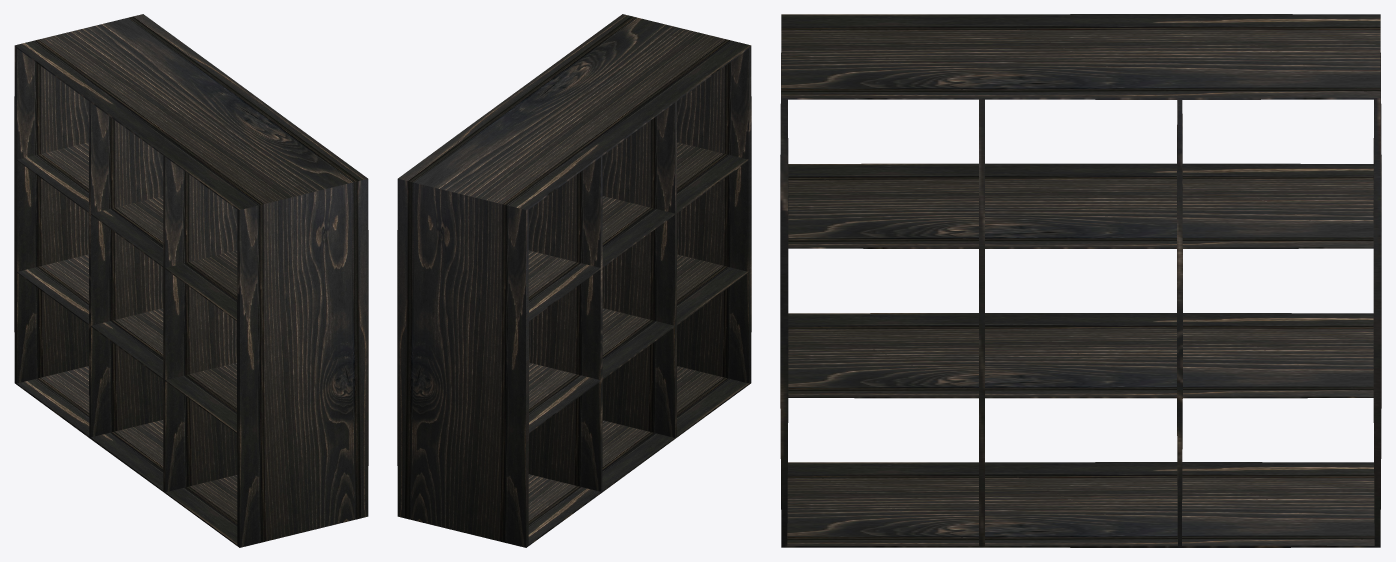
The model's file is SimpleShelf.fbx.
The picture shows the model from 3 angles, left to right: view 1: azimuth 30°, elevation 25°; view 2: azimuth 150°, elevation 25°; view 3: azimuth 270°, elevation 25°; orthographic projection. The views are drawn at different scales.
Visible parts, largest first — view 1: Plane; view 2: Plane; view 3: Plane.
Boxes of the visible parts, bbox=[...] form: Plane: bbox=[14, 14, 368, 547]; Plane: bbox=[397, 14, 751, 547]; Plane: bbox=[780, 14, 1381, 547].
Bounding box in the file's own units: 100 × 251 × 304.
